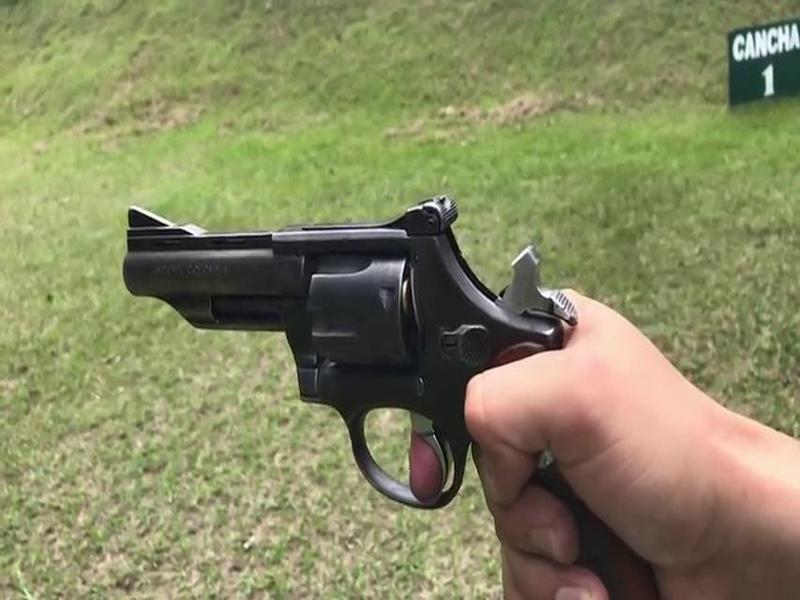Revolver: (113, 184, 614, 597)
